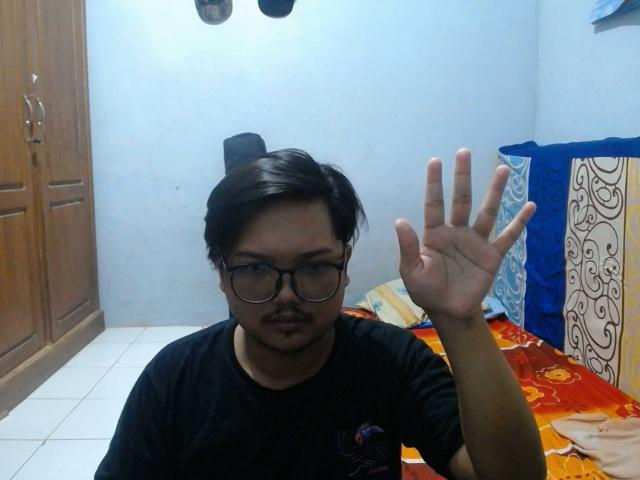Release: (387, 140, 540, 330)
